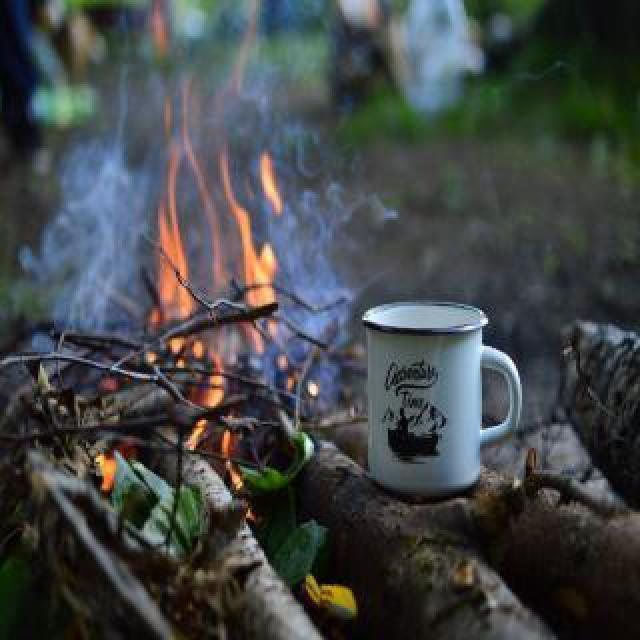fire: (138, 0, 291, 491)
smoke: (270, 120, 359, 393), (26, 147, 148, 336)
